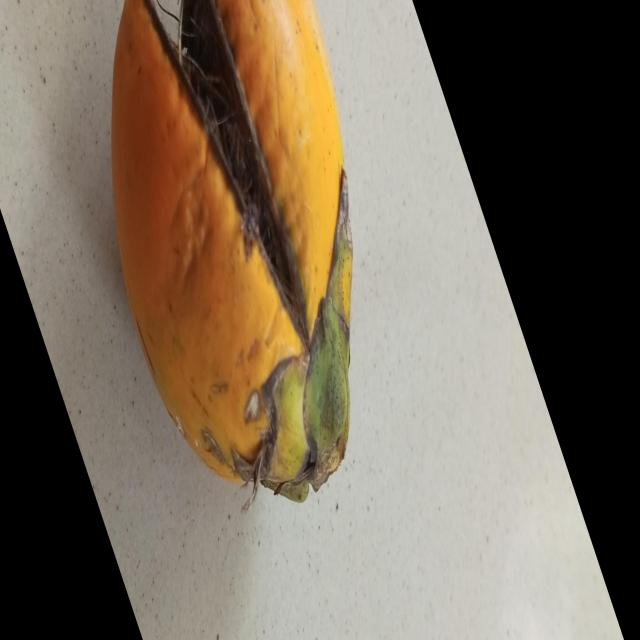damaged: (111, 0, 351, 503)
